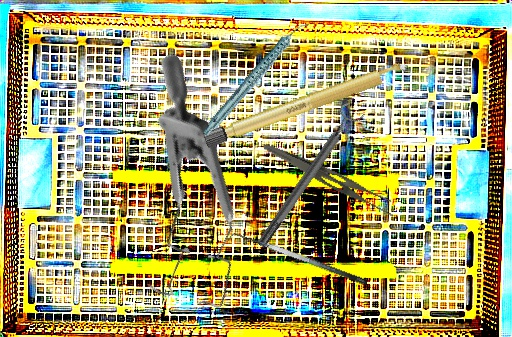Dressing Forceps: (256, 142, 402, 219)
Fixation Ring: (248, 100, 367, 253)
Handpiece: (183, 19, 329, 137)
Scalpel Handle: (202, 58, 412, 150)
Spatula Surgical: (226, 224, 369, 298)
Speculum: (44, 51, 315, 336)
